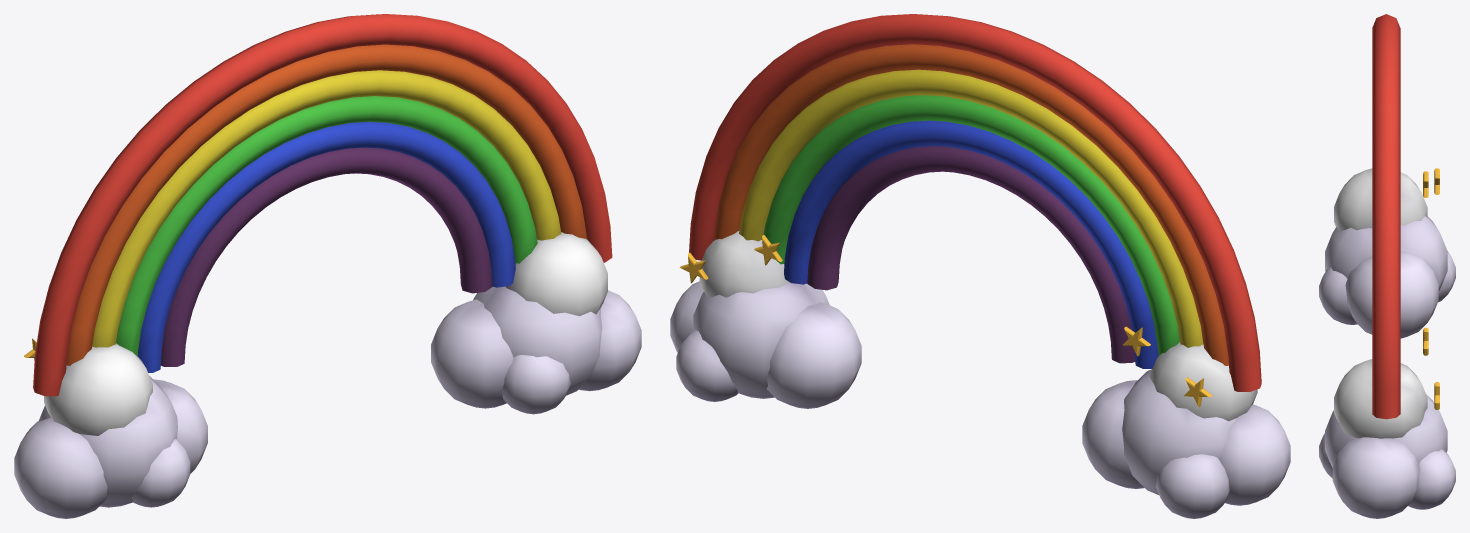
The model's file is rainbow_arch__148.glb.
3 views of the same model, side by side, from view 1: azimuth 30°, elevation 25°; view 2: azimuth 150°, elevation 25°; view 3: azimuth 270°, elevation 25° (orthographic). The views are drawn at different scales.
Visible parts, largest first — view 1: merged_toon_ffffff, merged_toon_ffffff_1; view 2: merged_toon_ffffff, merged_toon_ffffff_1; view 3: merged_toon_ffffff_1, merged_toon_ffffff.
Boxes of the visible parts, bbox=[...] form: merged_toon_ffffff: bbox=[24, 14, 612, 396]; merged_toon_ffffff_1: bbox=[14, 232, 641, 518]; merged_toon_ffffff: bbox=[679, 14, 1261, 406]; merged_toon_ffffff_1: bbox=[670, 231, 1290, 518]; merged_toon_ffffff_1: bbox=[1319, 168, 1455, 518]; merged_toon_ffffff: bbox=[1372, 14, 1439, 419].
Bounding box in the file's own units: 5.38 × 3.57 × 1.21.
